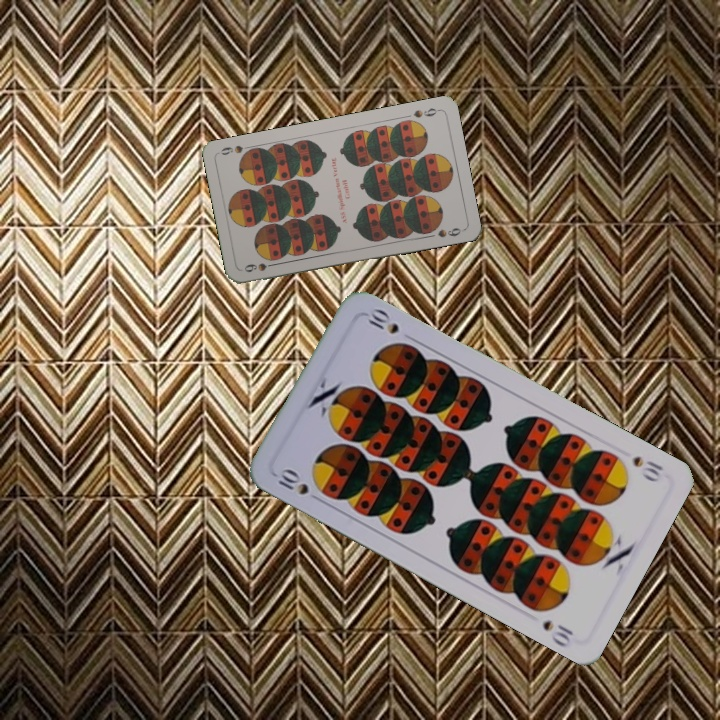S10: (274, 464, 325, 505), (628, 452, 666, 485)
S9: (240, 259, 280, 275), (409, 104, 442, 120)
